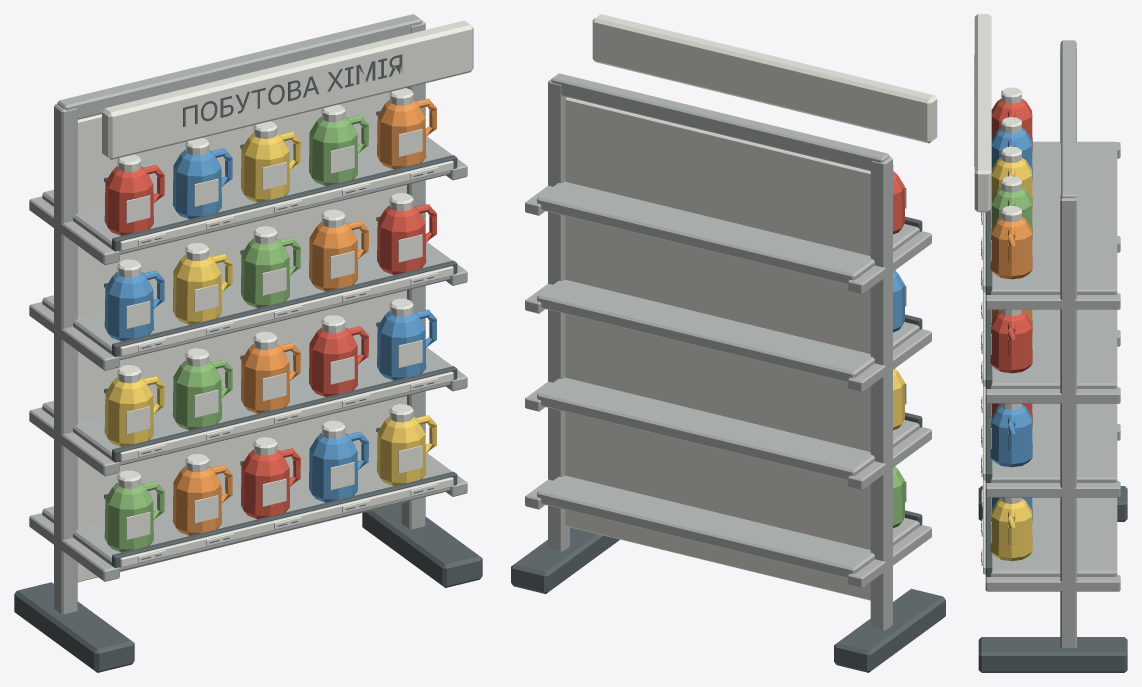
File: Shelf_HouseholdGoods.fbx
3 views of the same model, side by side, from view 1: azimuth 30°, elevation 25°; view 2: azimuth 150°, elevation 25°; view 3: azimuth 270°, elevation 25° (orthographic). The views are drawn at different scales.
Visible parts, largest first — view 1: Shelf_HouseholdGoods__LPCXFER, Shelf_HouseholdGoods__Back_pegboard__LPCXFER, Shelf_HouseholdGoods__Header_pegboard__LPCXFER, Shelf_HouseholdGoods__Shelf_3__LPCXFER, Shelf_HouseholdGoods__Shelf_4__LPCXFER, Shelf_HouseholdGoods__Shelf_2__LPCXFER, Shelf_HouseholdGoods__Shelf_1__LPCXFER, Shelf_HouseholdGoods_Item_1_F_1_detergent__LPCXFER, Shelf_HouseholdGoods_Item_3_F_1_detergent__LPCXFER, Shelf_HouseholdGoods_Item_2_F_5_detergent__LPCXFER, Shelf_HouseholdGoods_Item_1_F_5_detergent__LPCXFER, Shelf_HouseholdGoods_Item_3_F_5_detergent__LPCXFER (+16 smaller); view 2: Shelf_HouseholdGoods__Back_pegboard__LPCXFER, Shelf_HouseholdGoods__LPCXFER, Shelf_HouseholdGoods__Header_pegboard__LPCXFER, Shelf_HouseholdGoods__Shelf_2__LPCXFER, Shelf_HouseholdGoods__Shelf_1__LPCXFER, Shelf_HouseholdGoods__Shelf_3__LPCXFER, Shelf_HouseholdGoods__Shelf_4__LPCXFER, Shelf_HouseholdGoods_Item_4_F_1_detergent__LPCXFER, Shelf_HouseholdGoods_Item_2_F_1_detergent__LPCXFER, Shelf_HouseholdGoods_Item_3_F_1_detergent__LPCXFER, Shelf_HouseholdGoods_Item_1_F_1_detergent__LPCXFER; view 3: Shelf_HouseholdGoods__LPCXFER, Shelf_HouseholdGoods__Shelf_4__LPCXFER, Shelf_HouseholdGoods__Shelf_1__LPCXFER, Shelf_HouseholdGoods__Shelf_2__LPCXFER, Shelf_HouseholdGoods__Shelf_3__LPCXFER, Shelf_HouseholdGoods__Header_pegboard__LPCXFER, Shelf_HouseholdGoods_Item_4_F_5_detergent__LPCXFER, Shelf_HouseholdGoods_Item_2_F_5_detergent__LPCXFER, Shelf_HouseholdGoods_Item_3_F_5_detergent__LPCXFER, Shelf_HouseholdGoods_Item_1_F_5_detergent__LPCXFER, Shelf_HouseholdGoods_Item_4_F_4_detergent__LPCXFER, Shelf_HouseholdGoods_Item_4_F_1_detergent__LPCXFER (+2 smaller).
Part boxes in pixels (box(x1,y1,x2,y2)): Shelf_HouseholdGoods__LPCXFER: box(14, 14, 482, 672); Shelf_HouseholdGoods__Back_pegboard__LPCXFER: box(77, 92, 406, 582); Shelf_HouseholdGoods__Header_pegboard__LPCXFER: box(102, 20, 473, 159); Shelf_HouseholdGoods__Shelf_3__LPCXFER: box(42, 243, 457, 360); Shelf_HouseholdGoods__Shelf_4__LPCXFER: box(42, 138, 457, 254); Shelf_HouseholdGoods__Shelf_2__LPCXFER: box(42, 349, 457, 465); Shelf_HouseholdGoods__Shelf_1__LPCXFER: box(42, 455, 457, 571); Shelf_HouseholdGoods_Item_1_F_1_detergent__LPCXFER: box(104, 470, 164, 552); Shelf_HouseholdGoods_Item_3_F_1_detergent__LPCXFER: box(104, 259, 164, 341); Shelf_HouseholdGoods_Item_2_F_5_detergent__LPCXFER: box(377, 298, 436, 380); Shelf_HouseholdGoods_Item_1_F_5_detergent__LPCXFER: box(377, 404, 436, 485); Shelf_HouseholdGoods_Item_3_F_5_detergent__LPCXFER: box(377, 193, 436, 274); Shelf_HouseholdGoods__Back_pegboard__LPCXFER: box(565, 97, 870, 600); Shelf_HouseholdGoods__LPCXFER: box(511, 73, 945, 672); Shelf_HouseholdGoods__Header_pegboard__LPCXFER: box(592, 14, 937, 143); Shelf_HouseholdGoods__Shelf_2__LPCXFER: box(537, 377, 922, 480); Shelf_HouseholdGoods__Shelf_1__LPCXFER: box(537, 475, 922, 578); Shelf_HouseholdGoods__Shelf_3__LPCXFER: box(537, 279, 922, 382); Shelf_HouseholdGoods__Shelf_4__LPCXFER: box(537, 181, 922, 284); Shelf_HouseholdGoods_Item_4_F_1_detergent__LPCXFER: box(893, 164, 906, 234); Shelf_HouseholdGoods_Item_2_F_1_detergent__LPCXFER: box(893, 368, 906, 430); Shelf_HouseholdGoods_Item_3_F_1_detergent__LPCXFER: box(893, 270, 906, 332); Shelf_HouseholdGoods_Item_1_F_1_detergent__LPCXFER: box(893, 466, 906, 528); Shelf_HouseholdGoods__LPCXFER: box(978, 40, 1127, 672); Shelf_HouseholdGoods__Shelf_4__LPCXFER: box(981, 141, 1117, 294); Shelf_HouseholdGoods__Shelf_1__LPCXFER: box(981, 434, 1117, 576); Shelf_HouseholdGoods__Shelf_2__LPCXFER: box(981, 340, 1117, 482); Shelf_HouseholdGoods__Shelf_3__LPCXFER: box(981, 246, 1117, 388); Shelf_HouseholdGoods__Header_pegboard__LPCXFER: box(974, 14, 991, 212); Shelf_HouseholdGoods_Item_4_F_5_detergent__LPCXFER: box(990, 205, 1032, 279); Shelf_HouseholdGoods_Item_2_F_5_detergent__LPCXFER: box(990, 403, 1032, 467); Shelf_HouseholdGoods_Item_3_F_5_detergent__LPCXFER: box(990, 309, 1032, 373); Shelf_HouseholdGoods_Item_1_F_5_detergent__LPCXFER: box(990, 497, 1032, 561); Shelf_HouseholdGoods_Item_4_F_4_detergent__LPCXFER: box(990, 176, 1032, 240); Shelf_HouseholdGoods_Item_4_F_1_detergent__LPCXFER: box(991, 87, 1032, 151).
Size of the model in its own units: 154 by 212 by 59.15.
